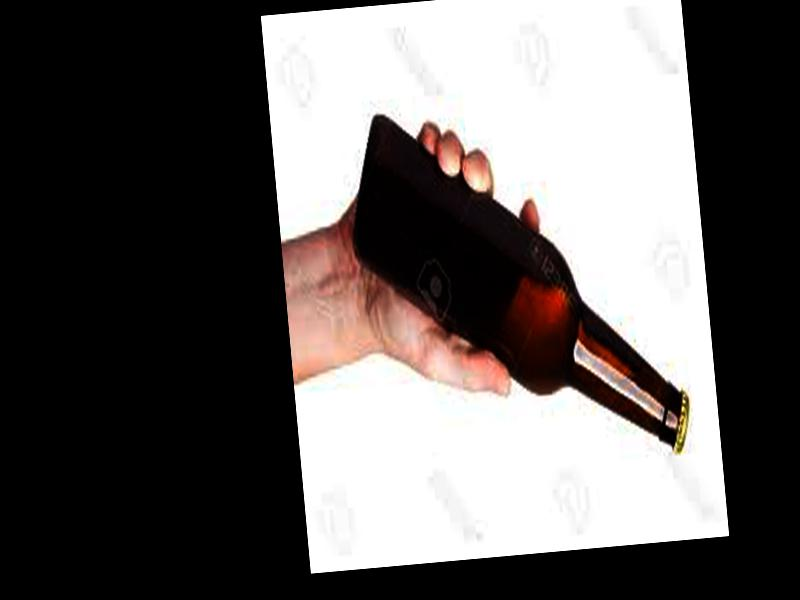Beer: (344, 93, 692, 481)
